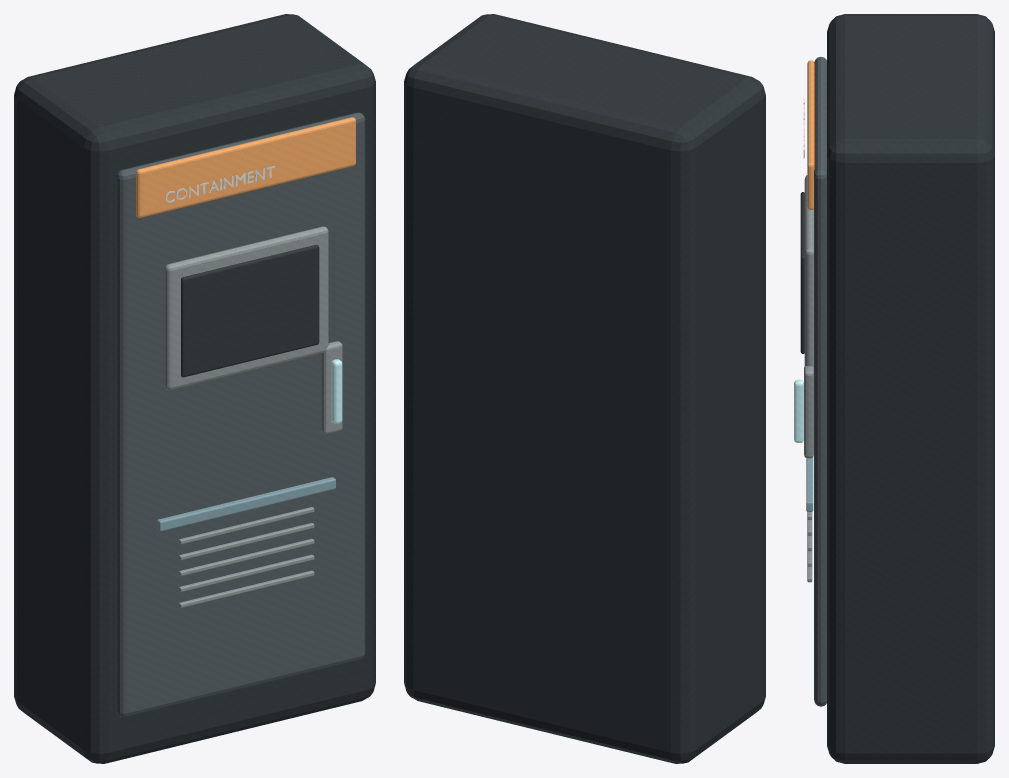
File: ContainmentCabinet.glb
3 views of the same model, side by side, from view 1: azimuth 30°, elevation 25°; view 2: azimuth 150°, elevation 25°; view 3: azimuth 270°, elevation 25° (orthographic).
Visible parts, largest first — view 1: ContainmentCabinet_Mesh; view 2: ContainmentCabinet_Mesh; view 3: ContainmentCabinet_Mesh.
Part boxes in pixels (x1,y1,x2,y2): ContainmentCabinet_Mesh: [14, 14, 375, 763]; ContainmentCabinet_Mesh: [404, 14, 765, 763]; ContainmentCabinet_Mesh: [794, 14, 994, 763].
Size of the model in its own units: 0.82 by 1.72 by 0.5025.
Materials: 7 (7 with a texture image).
